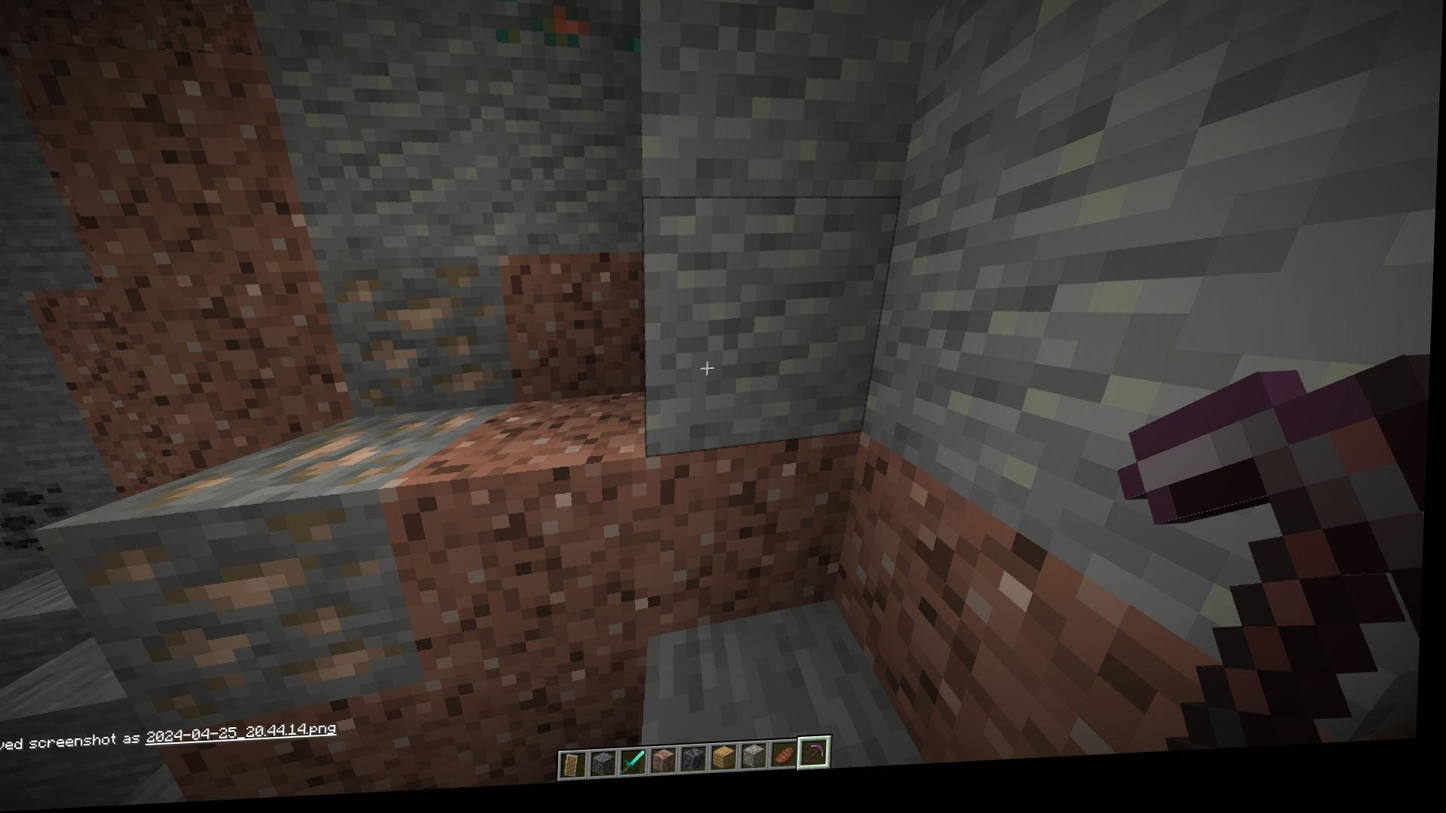iron ore: (95, 517, 399, 719), (166, 414, 496, 498), (342, 264, 505, 409)
